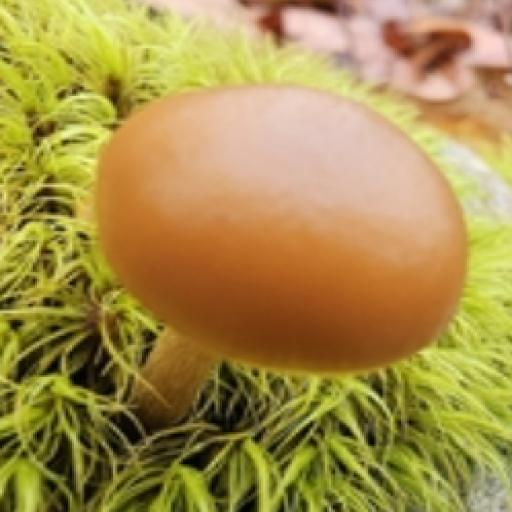Funeral Bell: (90, 80, 481, 405)
